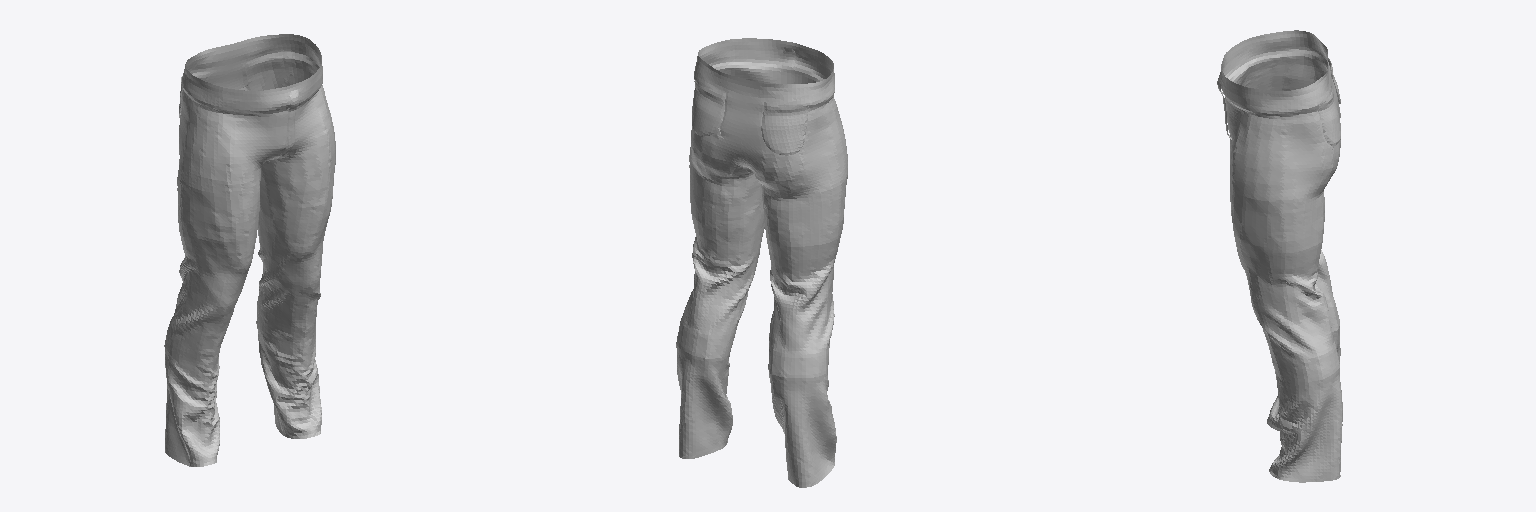
Rendered from Pantaloni_Pos.obj.
3 views of the same model, side by side, from view 1: azimuth 30°, elevation 25°; view 2: azimuth 150°, elevation 25°; view 3: azimuth 270°, elevation 25° (orthographic).
Parts seen in each view (by area): view 1: Pantaloni_Pos; view 2: Pantaloni_Pos; view 3: Pantaloni_Pos.
Part boxes in pixels (x1,y1,x2,y2): Pantaloni_Pos: (164, 34, 335, 466); Pantaloni_Pos: (676, 38, 847, 487); Pantaloni_Pos: (1217, 30, 1342, 482).
Size of the model in its own units: 21.12 by 53.77 by 15.49.